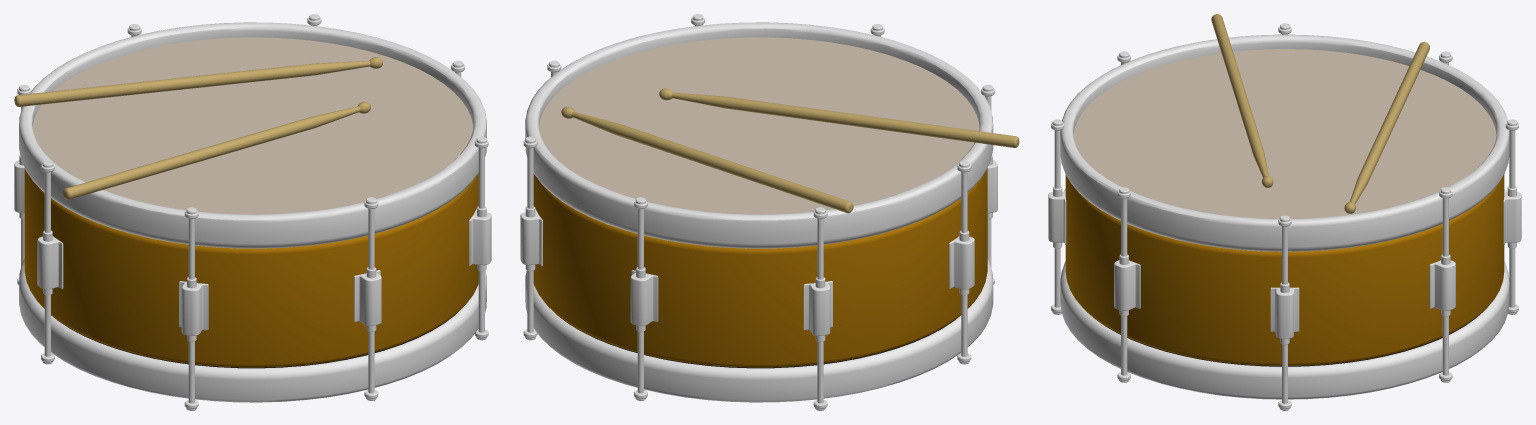
Rendered from Drum.fbx.
3 renders of one model, left to right at view 1: azimuth 30°, elevation 25°; view 2: azimuth 150°, elevation 25°; view 3: azimuth 270°, elevation 25°, orthographic. The views are drawn at different scales.
Visible parts, largest first — view 1: Cylinder, Cylinder.004, Cylinder.003, Cylinder.001, Cylinder.002, Cube.002, Cube.003, Cube, Cube.001; view 2: Cylinder, Cylinder.003, Cylinder.004, Cylinder.001, Cylinder.002, Cube.003, Cube.002, Cube, Cube.001; view 3: Cylinder, Cylinder.002, Cylinder.001, Cylinder.004, Cylinder.003, Cube, Cube.001, Cube.002, Cube.003.
Part boxes in pixels (x1=…): Cylinder: x1=19, y1=22, x2=486, y2=402; Cylinder.004: x1=14, y1=57, x2=382, y2=106; Cylinder.003: x1=63, y1=101, x2=370, y2=199; Cylinder.001: x1=17, y1=14, x2=488, y2=410; Cylinder.002: x1=41, y1=24, x2=464, y2=400; Cube.002: x1=14, y1=160, x2=491, y2=266; Cube.003: x1=179, y1=281, x2=208, y2=335; Cube: x1=354, y1=270, x2=381, y2=326; Cube.001: x1=37, y1=236, x2=63, y2=289; Cylinder: x1=525, y1=22, x2=993, y2=402; Cylinder.003: x1=659, y1=88, x2=1019, y2=147; Cylinder.004: x1=561, y1=106, x2=853, y2=213; Cylinder.001: x1=523, y1=14, x2=994, y2=410; Cylinder.002: x1=547, y1=24, x2=971, y2=400; Cube.003: x1=520, y1=160, x2=997, y2=266; Cube.002: x1=803, y1=281, x2=832, y2=335; Cube: x1=630, y1=270, x2=658, y2=326; Cube.001: x1=949, y1=236, x2=974, y2=289; Cylinder: x1=1060, y1=34, x2=1509, y2=399; Cylinder.002: x1=1051, y1=23, x2=1518, y2=410; Cylinder.001: x1=1117, y1=51, x2=1452, y2=382; Cylinder.004: x1=1344, y1=42, x2=1429, y2=213; Cylinder.003: x1=1211, y1=14, x2=1273, y2=187; Cube: x1=1048, y1=189, x2=1521, y2=244; Cube.001: x1=1270, y1=287, x2=1299, y2=338; Cube.002: x1=1114, y1=260, x2=1140, y2=310; Cube.003: x1=1429, y1=260, x2=1455, y2=310.
Bounding box in the file's own units: 216 × 95.91 × 210.
